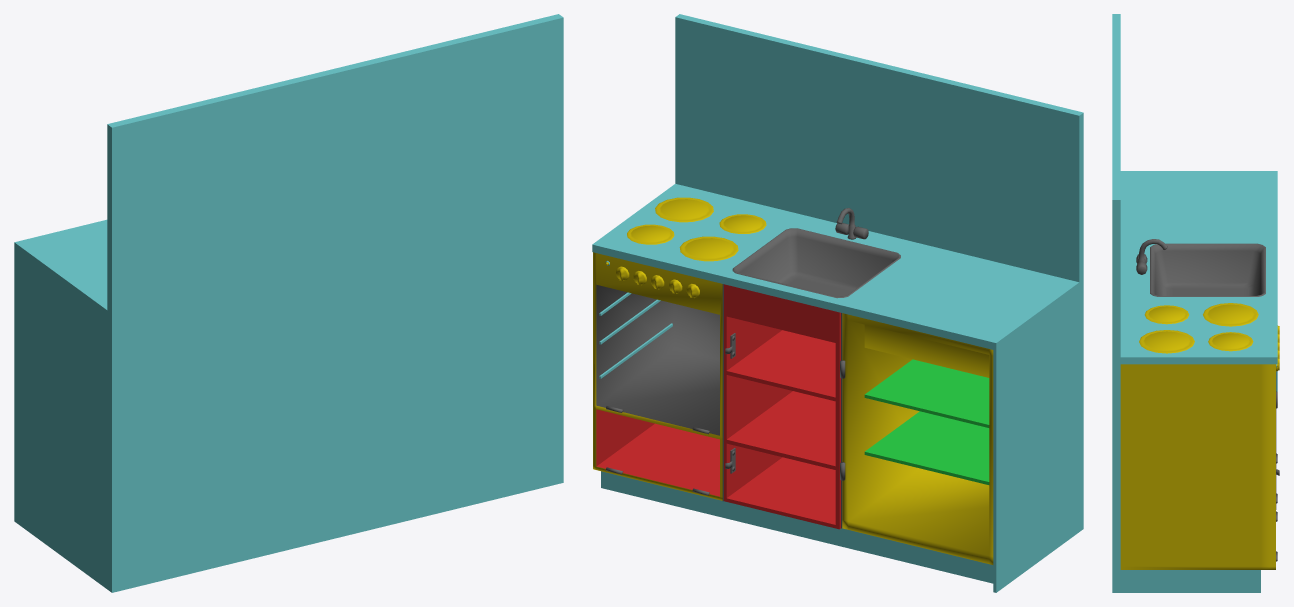
File: SNWP_MOD_BUN_Kitchen_counter.fbx
The picture shows the model from 3 angles, left to right: view 1: azimuth 30°, elevation 25°; view 2: azimuth 150°, elevation 25°; view 3: azimuth 270°, elevation 25°; orthographic projection. The views are drawn at different scales.
Parts seen in each view (by area): view 1: SNWP_MOD_Bunker_kitchen_counter; view 2: SNWP_MOD_Bunker_kitchen_counter; view 3: SNWP_MOD_Bunker_kitchen_counter.
Boxes of the visible parts, <box> form: SNWP_MOD_Bunker_kitchen_counter: <box>14,14,563,592</box>; SNWP_MOD_Bunker_kitchen_counter: <box>592,14,1083,592</box>; SNWP_MOD_Bunker_kitchen_counter: <box>1112,14,1279,592</box>.
Bounding box in the file's own units: 1.6 × 1.58 × 0.6076.
